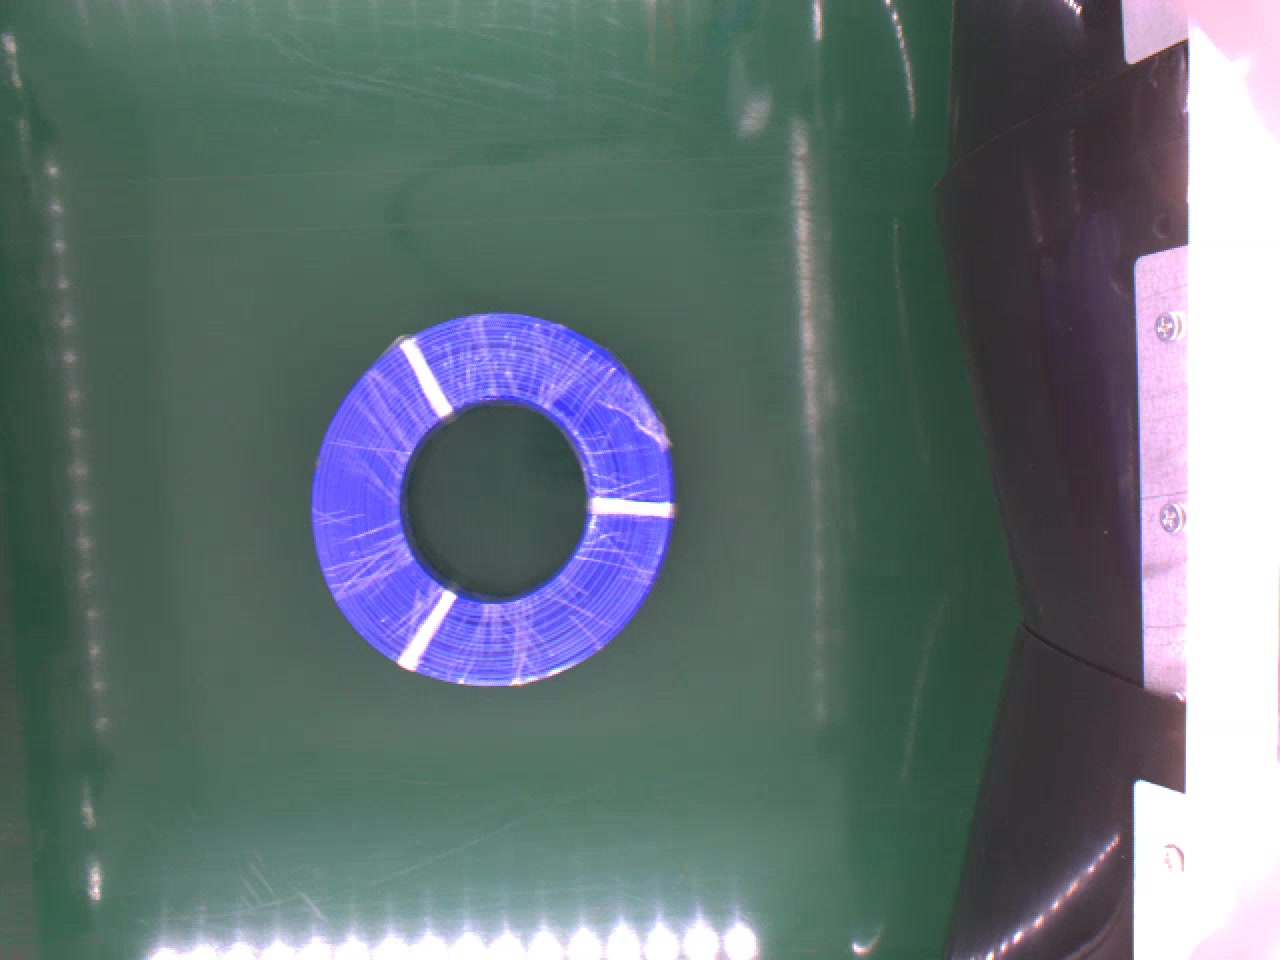blue: (307, 311, 690, 695)
